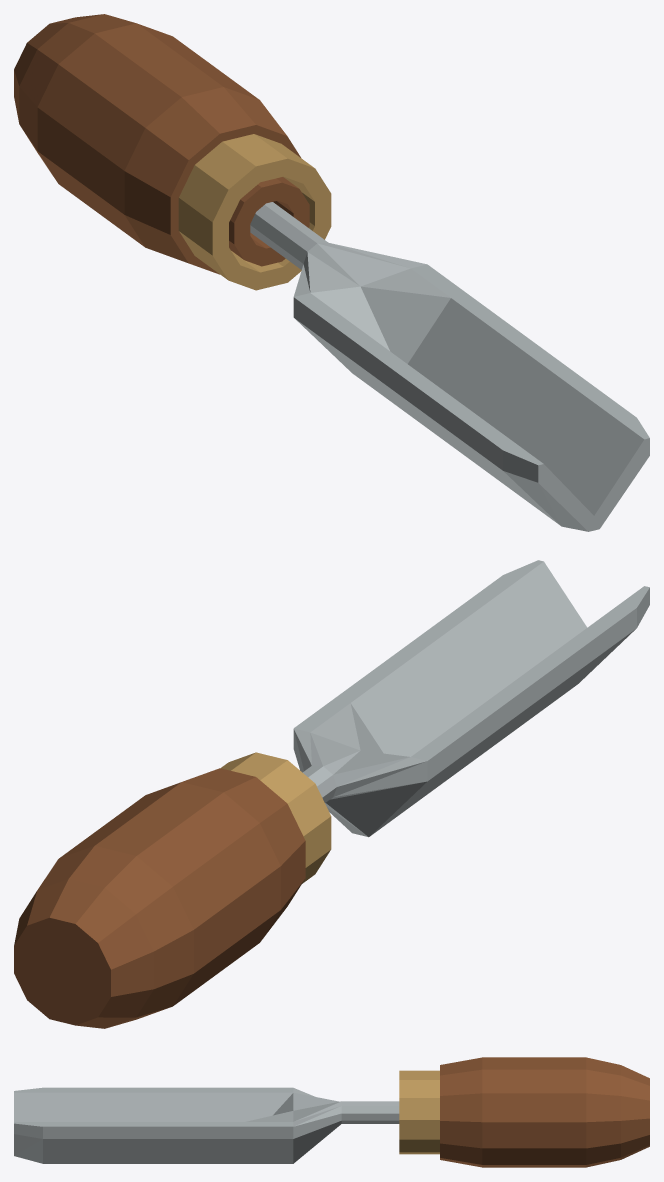
The picture shows the model from 3 angles, top to bottom: view 1: azimuth 30°, elevation 25°; view 2: azimuth 150°, elevation 25°; view 3: azimuth 270°, elevation 25°; orthographic projection. The views are drawn at different scales.
Parts seen in each view (by area): view 1: ContinuousVChannelRootNeckTang, TwelveFacetBlindCavityGrip, TwelveFacetThroughBoredFerrule; view 2: TwelveFacetBlindCavityGrip, ContinuousVChannelRootNeckTang, TwelveFacetThroughBoredFerrule; view 3: ContinuousVChannelRootNeckTang, TwelveFacetBlindCavityGrip, TwelveFacetThroughBoredFerrule.
Part boxes in pixels (<box>): ContinuousVChannelRootNeckTang: <box>250,202,649,531</box>; TwelveFacetBlindCavityGrip: <box>14,14,309,274</box>; TwelveFacetThroughBoredFerrule: <box>178,134,331,290</box>; TwelveFacetBlindCavityGrip: <box>14,768,305,1028</box>; ContinuousVChannelRootNeckTang: <box>293,560,649,837</box>; TwelveFacetThroughBoredFerrule: <box>221,752,331,883</box>; ContinuousVChannelRootNeckTang: <box>14,1087,399,1163</box>; TwelveFacetBlindCavityGrip: <box>440,1057,649,1167</box>; TwelveFacetThroughBoredFerrule: <box>399,1070,439,1154</box>.
Bounding box in the file's own units: 0.056 × 0.056 × 0.33.
